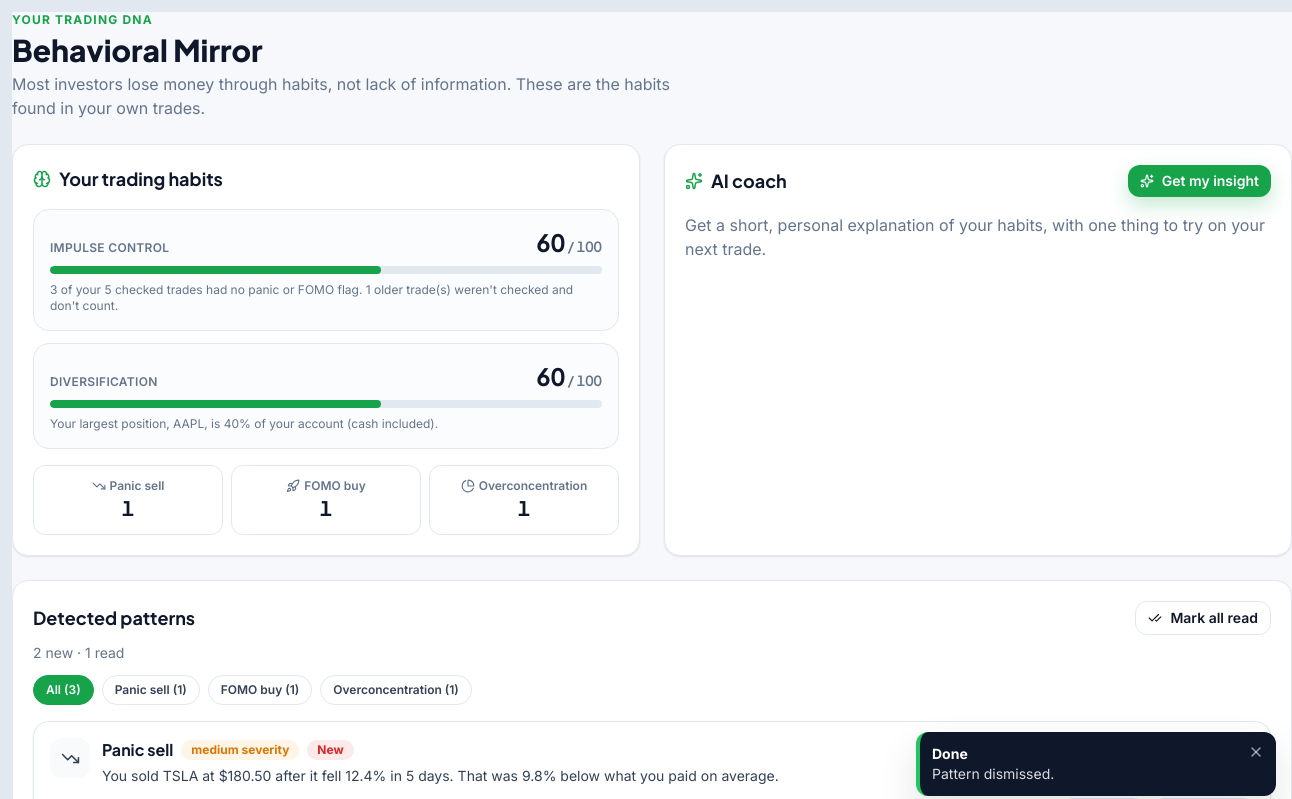
Test: Behavioral Mirror › an AI outage shows a readable error with retry
Click the button "Get my insight". click: (1199, 181)
box: [1128,165,1271,197]
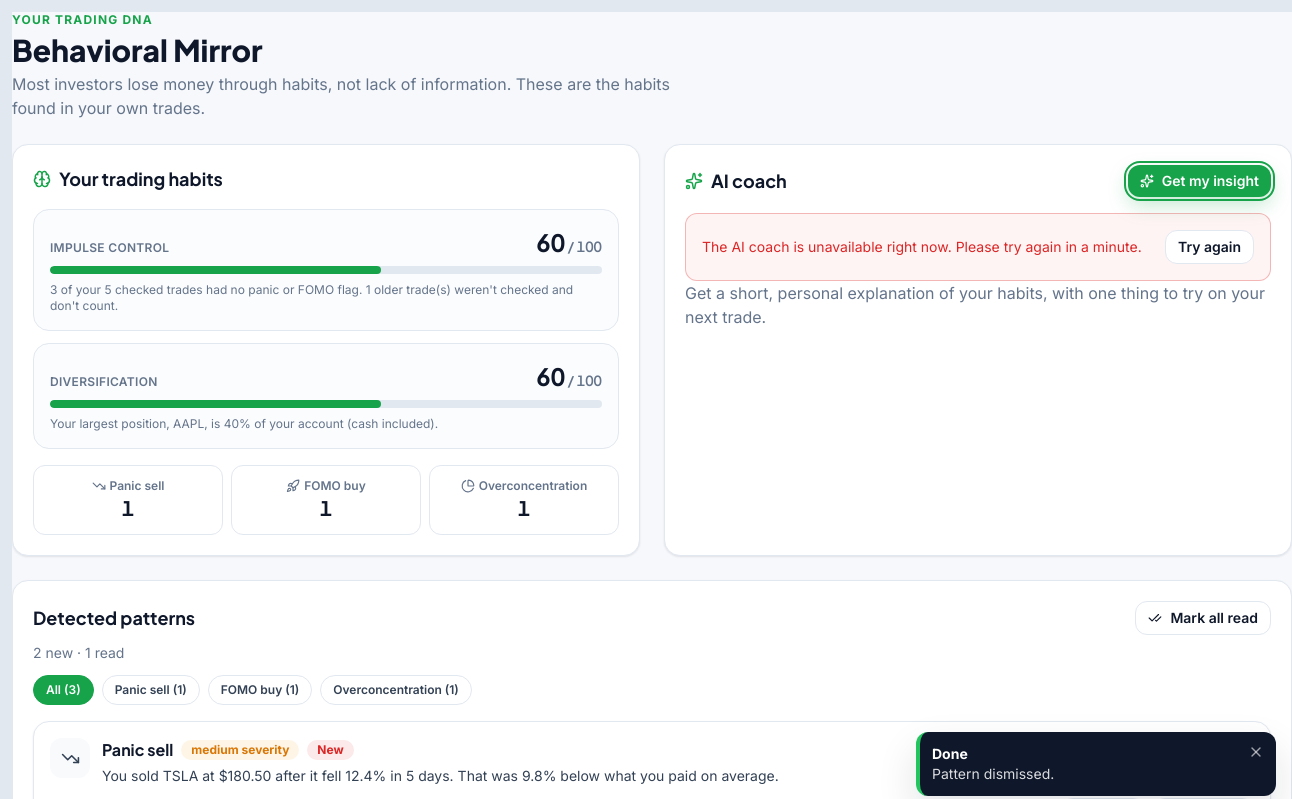
Expected: the text "AI coach is unavailable" is shown, [702,238,1142,255]
Expected: the button "Try again" is shown, [1165,230,1254,264]
